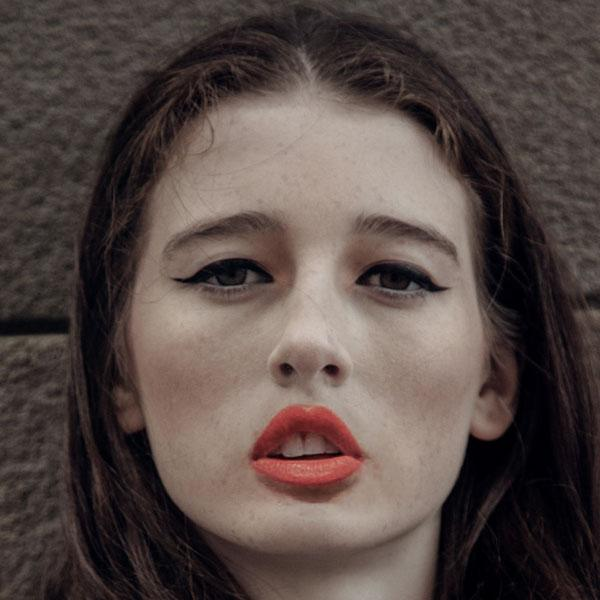Eyes: (175, 247, 285, 305), (348, 250, 448, 307)
